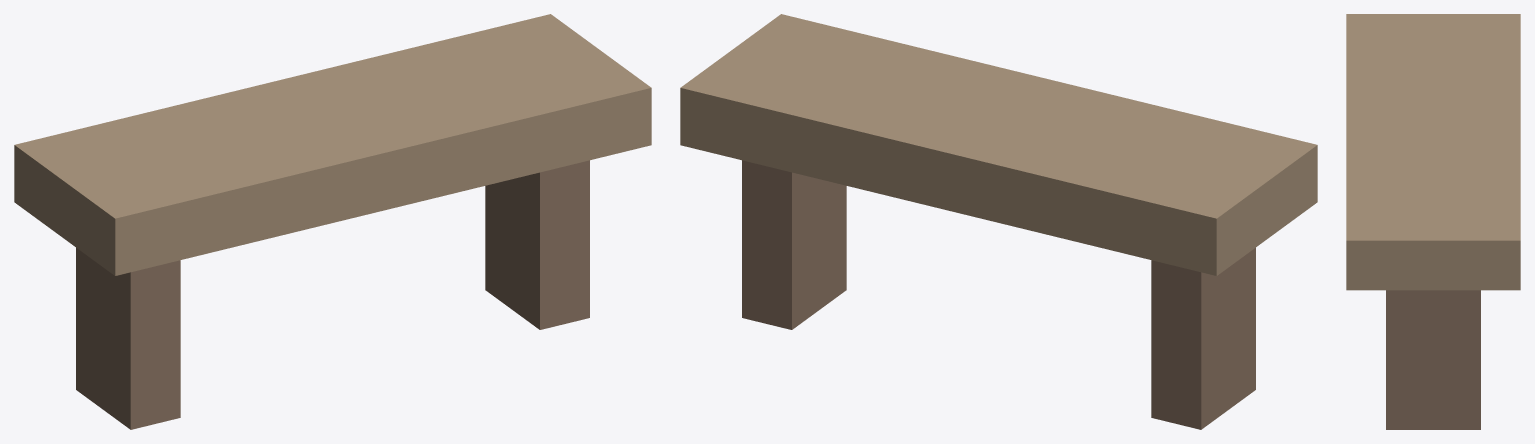
Rendered from banco_madeira.glb.
The picture shows the model from 3 angles, left to right: view 1: azimuth 30°, elevation 25°; view 2: azimuth 150°, elevation 25°; view 3: azimuth 270°, elevation 25°; orthographic projection. The views are drawn at different scales.
Parts seen in each view (by area): view 1: part_000, part_001, part_002; view 2: part_000, part_001, part_002; view 3: part_000, part_002.
Part boxes in pixels (x1,y1,x2,y2): part_000: (14, 14, 651, 275); part_001: (76, 247, 180, 429); part_002: (485, 160, 589, 329); part_000: (680, 14, 1317, 275); part_001: (1151, 247, 1255, 429); part_002: (742, 160, 846, 329); part_000: (1346, 14, 1520, 290); part_002: (1386, 290, 1480, 429).
Bounding box in the file's own units: 2.15 × 0.91 × 0.7.
